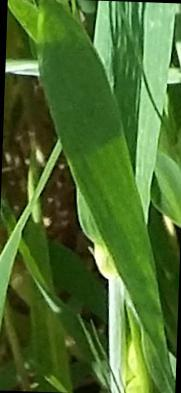Wheat: (65, 110, 127, 242), (120, 246, 176, 392), (32, 7, 112, 104)
